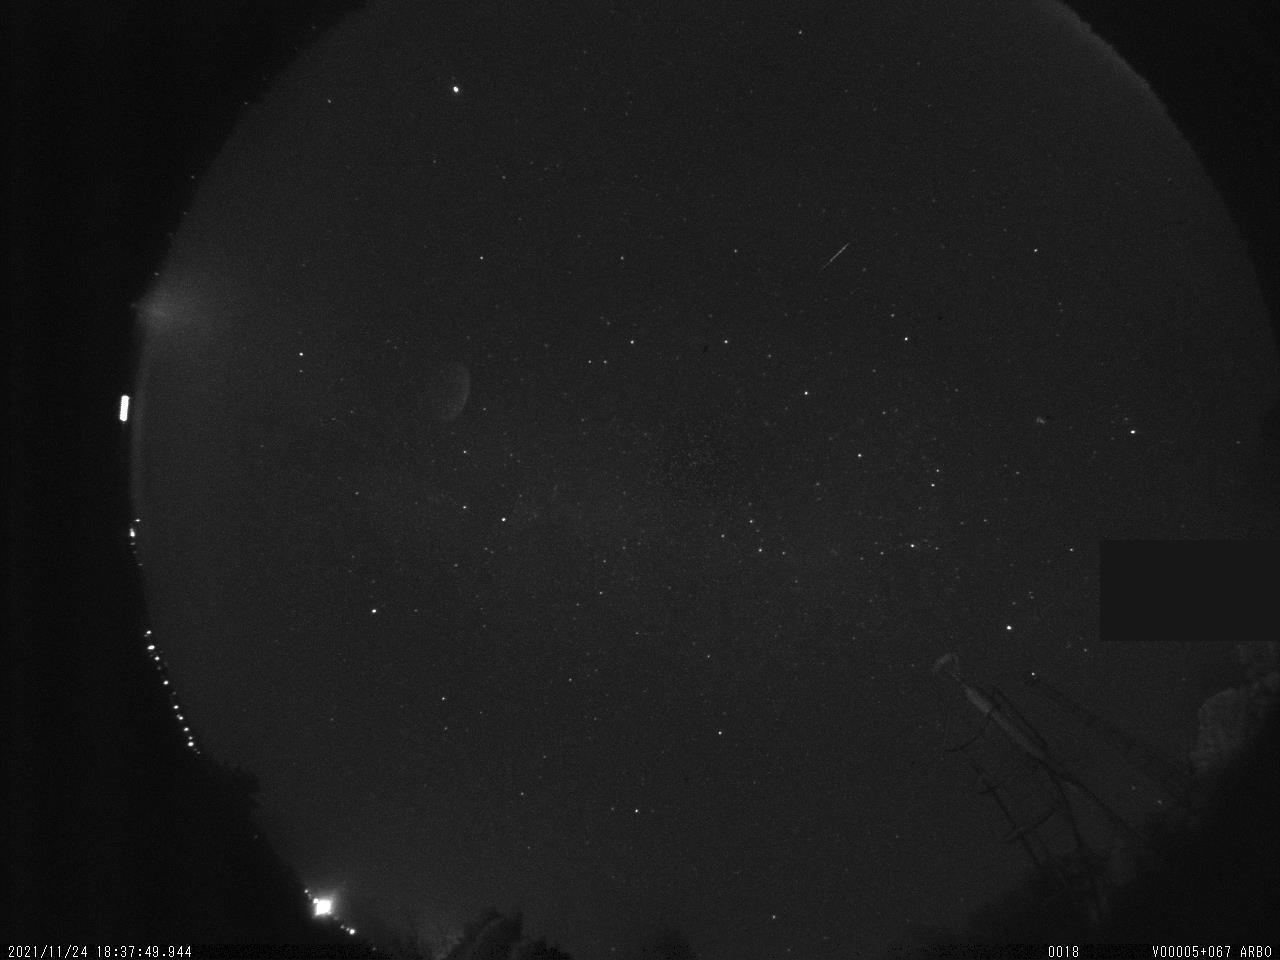meteor: (809, 222, 872, 289)
